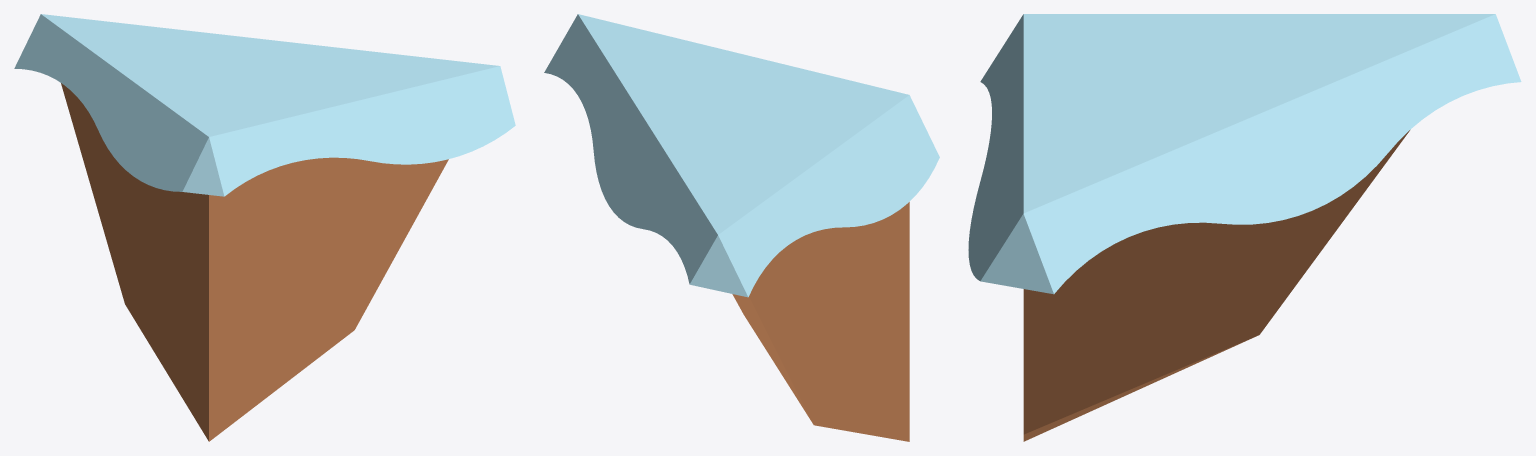
File: blockSnowCliffCorner.glb
The picture shows the model from 3 angles, left to right: view 1: azimuth 30°, elevation 25°; view 2: azimuth 150°, elevation 25°; view 3: azimuth 270°, elevation 25°; orthographic projection. The views are drawn at different scales.
Visible parts, largest first — view 1: blockSnowCliffCorner; view 2: blockSnowCliffCorner; view 3: blockSnowCliffCorner.
Part boxes in pixels (x1,y1,x2,y2): blockSnowCliffCorner: (14,14,515,441); blockSnowCliffCorner: (544,14,939,441); blockSnowCliffCorner: (968,14,1521,441).
Bounding box in the file's own units: 1.18 × 1 × 1.17.
